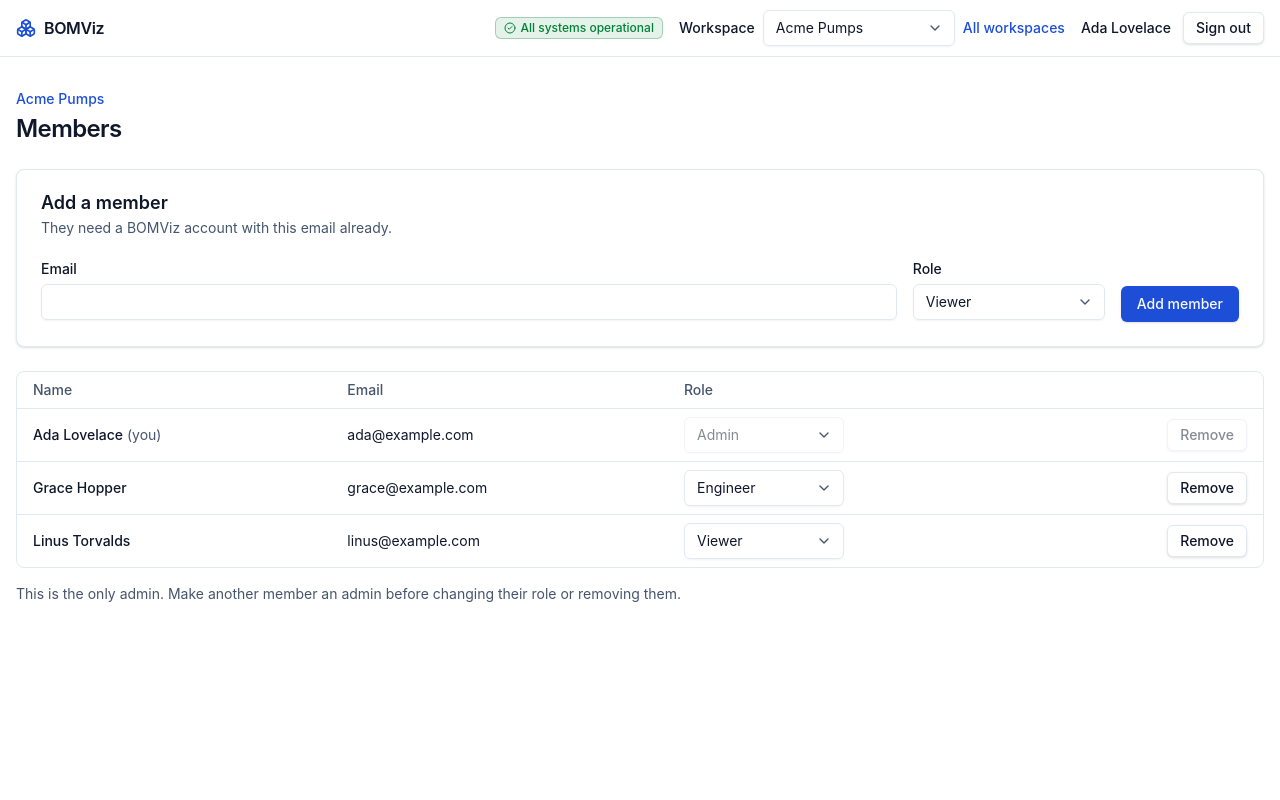
Test: MembersPage as ADMIN › shows USER_NOT_FOUND from the server next to the add form
The width and height of the screenshot is (1280, 800).
Type "nobody@example.com" into the field labelled "Email". click: (469, 302)
box: [41,284,897,320]
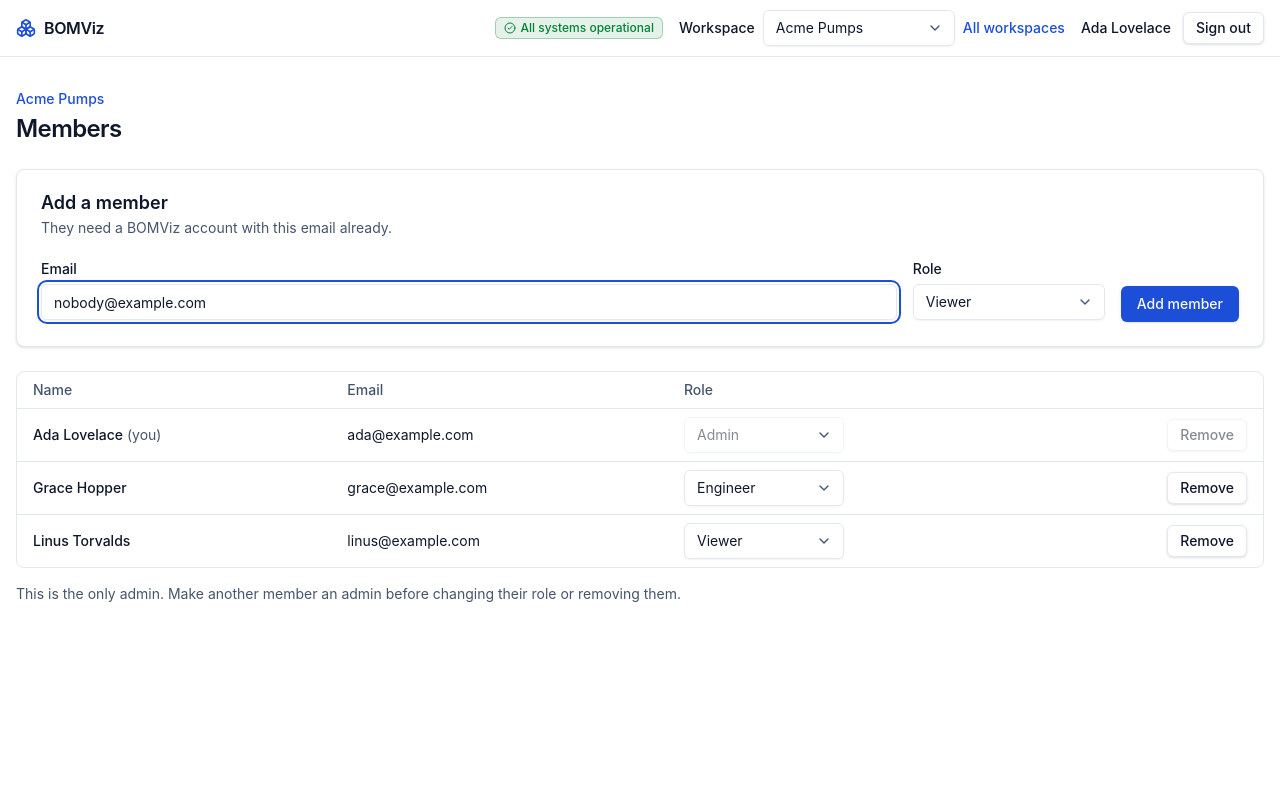
Select "Engineer" in the dropdown labelled "Role". click: (1009, 302)
box: [913,284,1105,320]
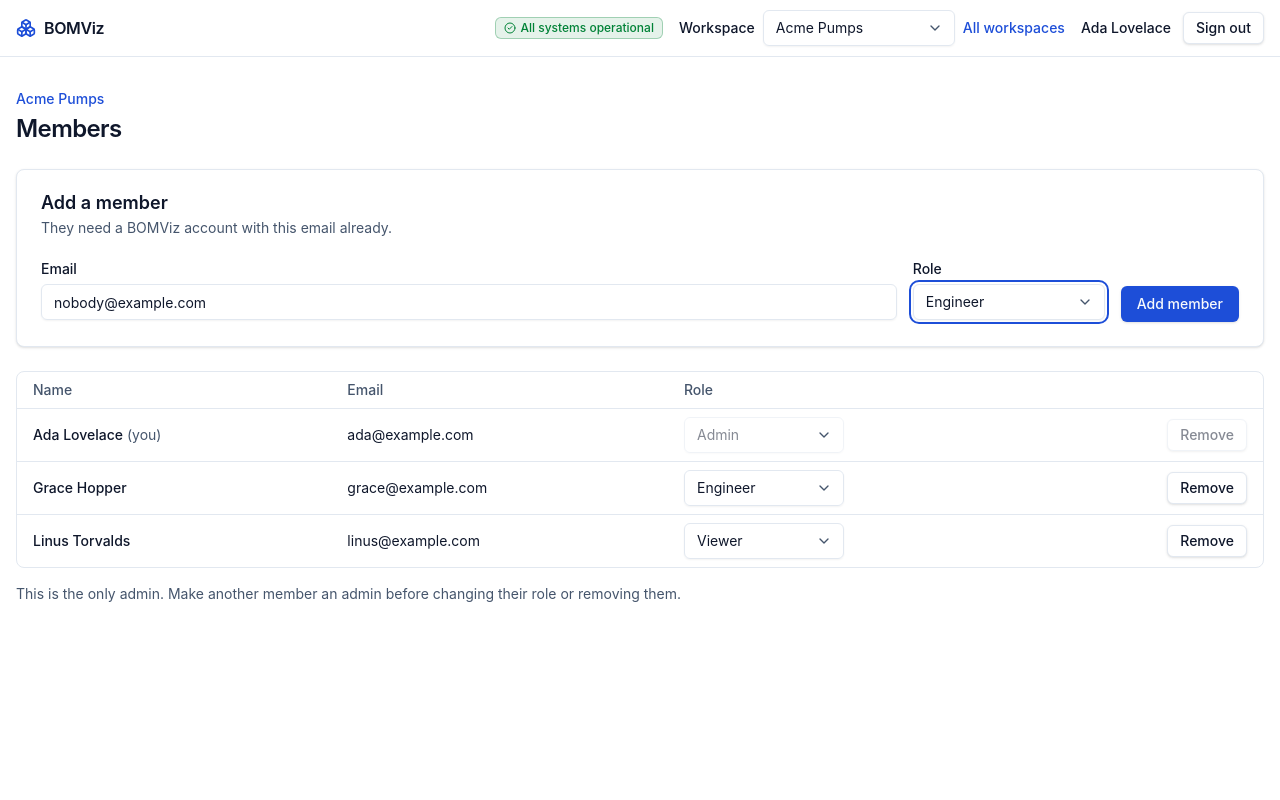
Click the button "Add member". click: (1180, 304)
box: [1121,286,1239,322]
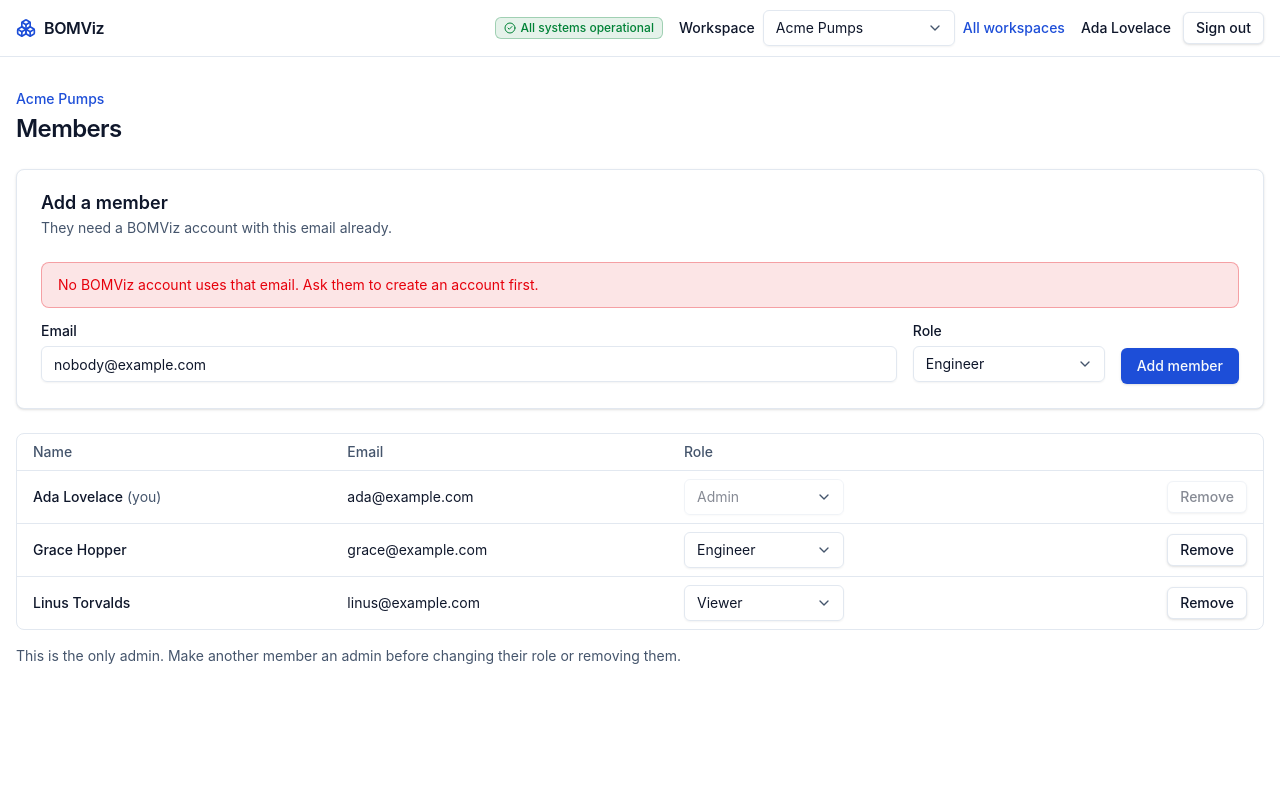
Expected: the message "No BOMViz account uses that email. Ask them to create an account first." is shown, [41,262,1239,308]
